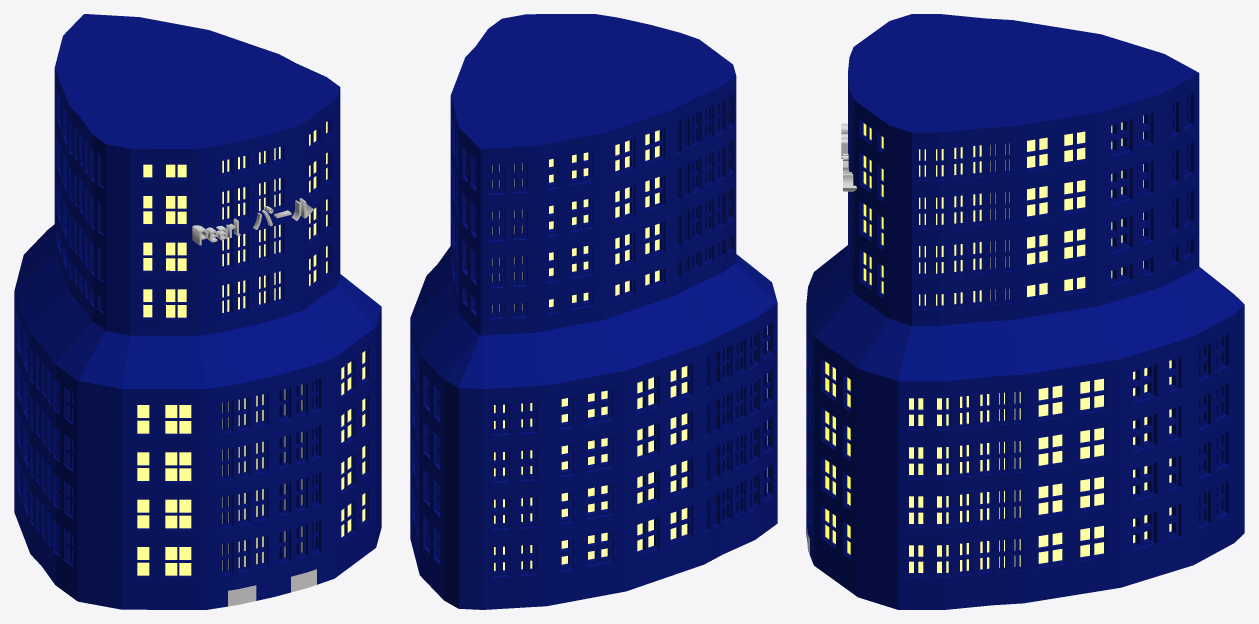
The model's file is the_pearl.fbx.
3 views of the same model, side by side, from view 1: azimuth 30°, elevation 25°; view 2: azimuth 150°, elevation 25°; view 3: azimuth 270°, elevation 25° (orthographic). The views are drawn at different scales.
Visible parts, largest first — view 1: Vert, Text, Text.001; view 2: Vert; view 3: Vert.
Part boxes in pixels (<box>): Vert: <box>14,14,381,609</box>; Text: <box>192,218,240,245</box>; Text.001: <box>253,198,313,229</box>; Vert: <box>410,14,777,609</box>; Vert: <box>806,14,1244,609</box>.
Size of the model in its own units: 606 by 846 by 731.
